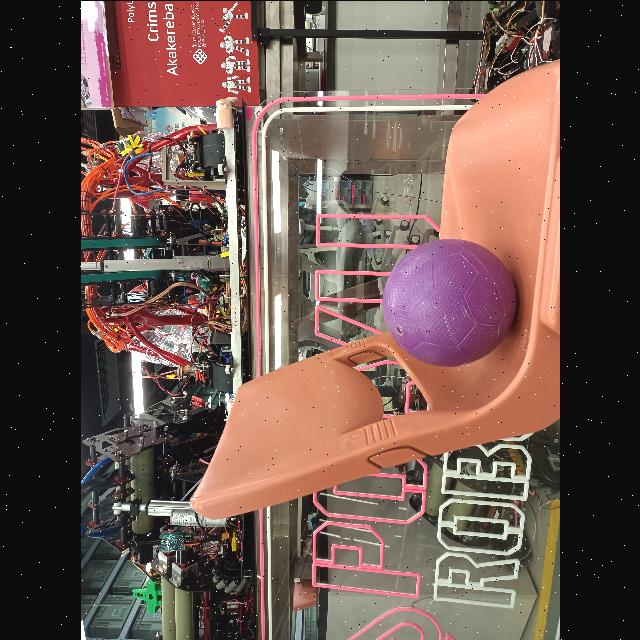P: (380, 236, 516, 368)
